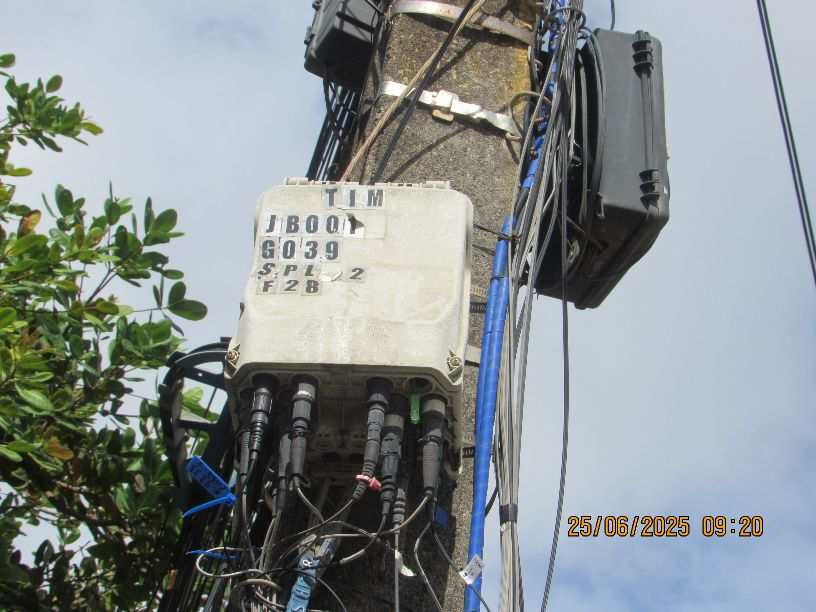caixa_derivacao: (227, 159, 480, 447), (516, 25, 676, 324), (281, 0, 428, 102)
